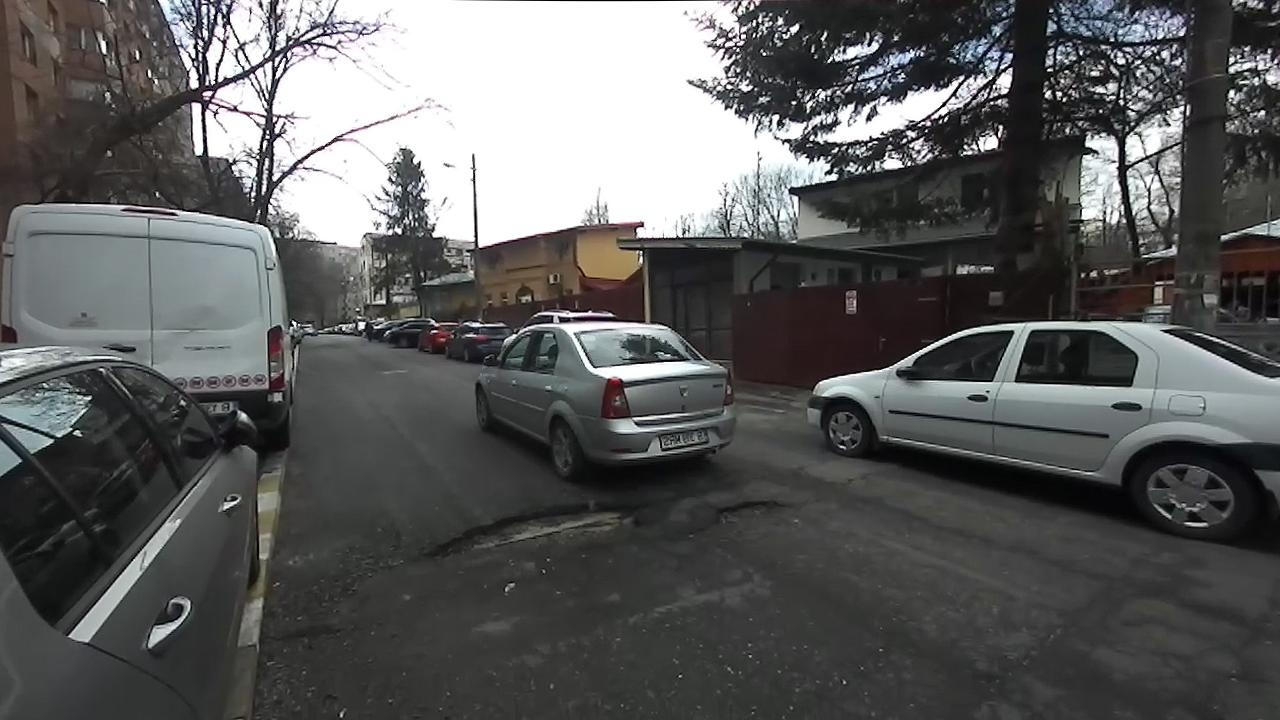pothole: (408, 496, 642, 566), (707, 493, 789, 534)
